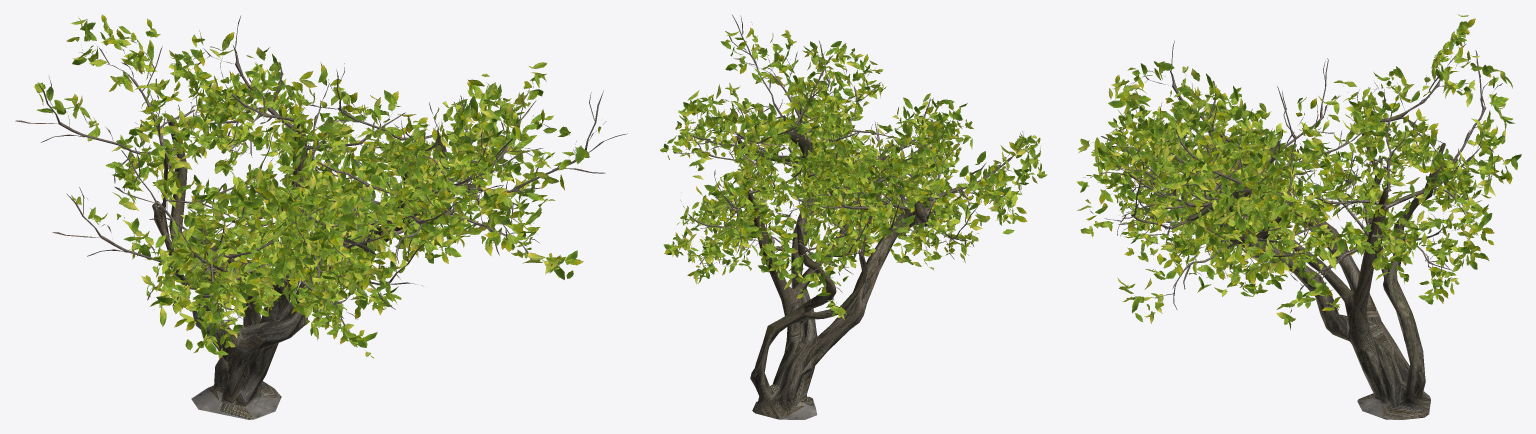
File: coastal-tree.glb
The picture shows the model from 3 angles, left to right: view 1: azimuth 30°, elevation 25°; view 2: azimuth 150°, elevation 25°; view 3: azimuth 270°, elevation 25°; orthographic projection. The views are drawn at different scales.
Size of the model in its own units: 4.21 by 3.43 by 4.07.
Materials: 3 (3 with a texture image).
